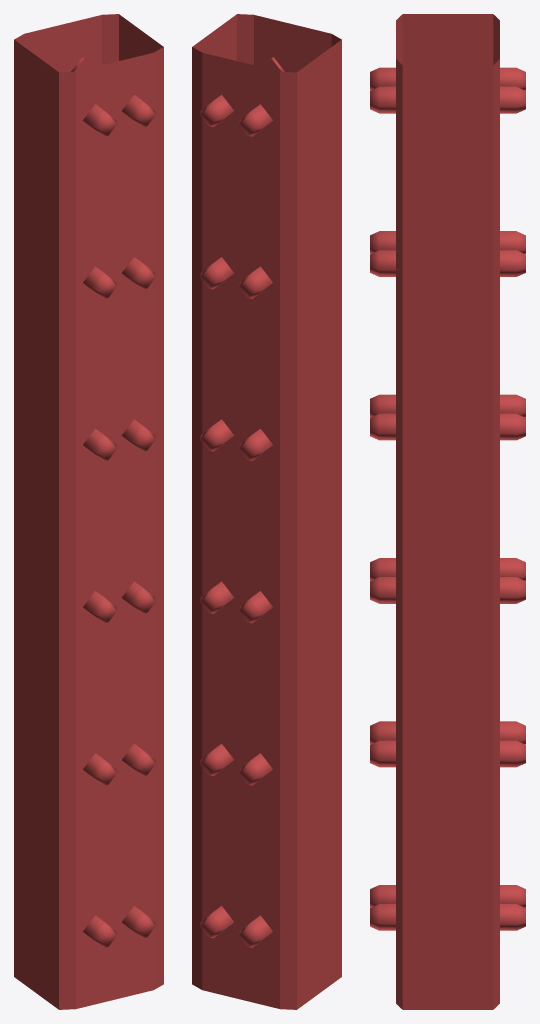
File: SM_ENV_CORNER.fbx
The picture shows the model from 3 angles, left to right: view 1: azimuth 30°, elevation 25°; view 2: azimuth 150°, elevation 25°; view 3: azimuth 270°, elevation 25°; orthographic projection.
Parts seen in each view (by area): view 1: SM_ENV_CORNER; view 2: SM_ENV_CORNER; view 3: SM_ENV_CORNER.
Boxes of the visible parts, <box> form: SM_ENV_CORNER: <box>14,14,163,1009</box>; SM_ENV_CORNER: <box>192,14,341,1009</box>; SM_ENV_CORNER: <box>370,14,525,1009</box>.
Size of the model in its own units: 0.4675 by 4 by 0.5981.
